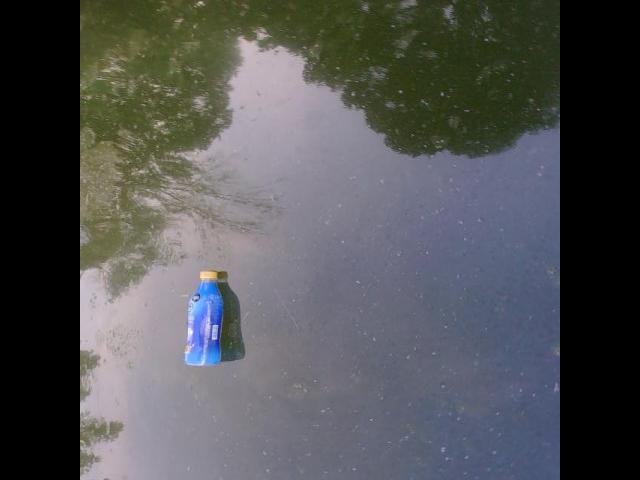Bottle: (178, 262, 234, 374)
